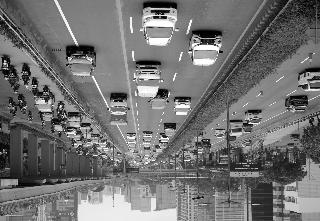mobil: (139, 3, 177, 48), (188, 30, 222, 66), (132, 58, 162, 95), (65, 46, 99, 76), (108, 92, 126, 124), (296, 68, 320, 92), (284, 95, 308, 113), (33, 94, 56, 112), (173, 96, 190, 118), (150, 90, 168, 110), (246, 110, 262, 124), (67, 113, 83, 126), (164, 122, 176, 138), (38, 110, 54, 122), (230, 121, 242, 136), (140, 130, 154, 142), (213, 128, 225, 140), (242, 124, 254, 134), (125, 131, 135, 141)
motor: (0, 52, 10, 78), (20, 62, 30, 84), (7, 67, 17, 87), (41, 86, 51, 104), (30, 79, 40, 96), (7, 96, 16, 112), (17, 94, 25, 110), (26, 110, 34, 124), (58, 100, 64, 116)
